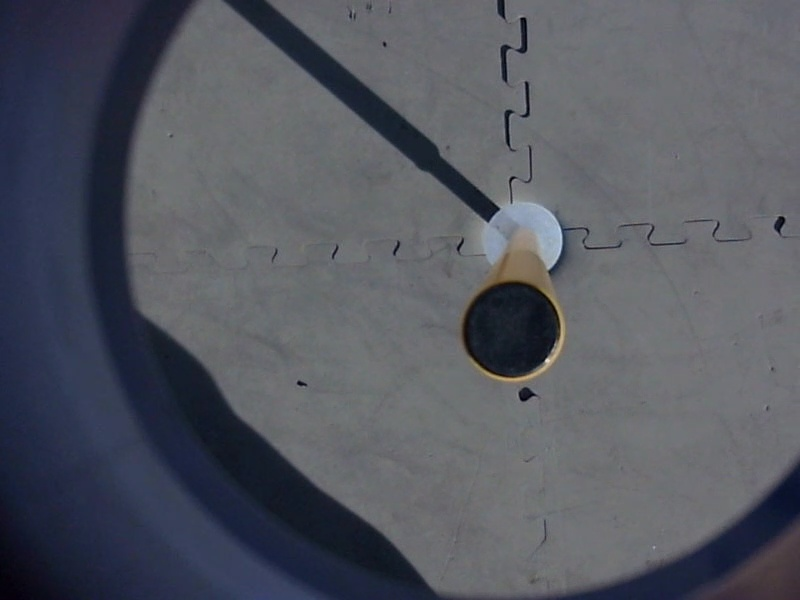tip: (454, 275, 571, 391)
